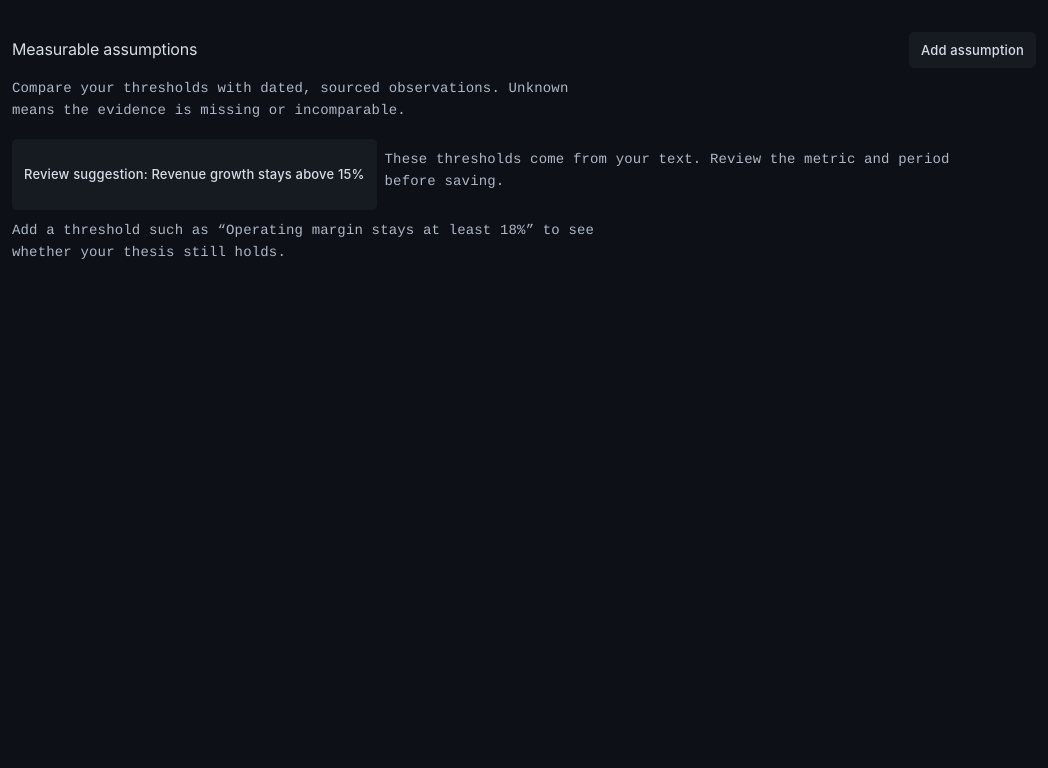
offers explicit thesis thresholds for review without auto-saving them
Click the button "Review suggestion: Revenue growth stays above 15%" at [194, 174], box [12,139,377,210]
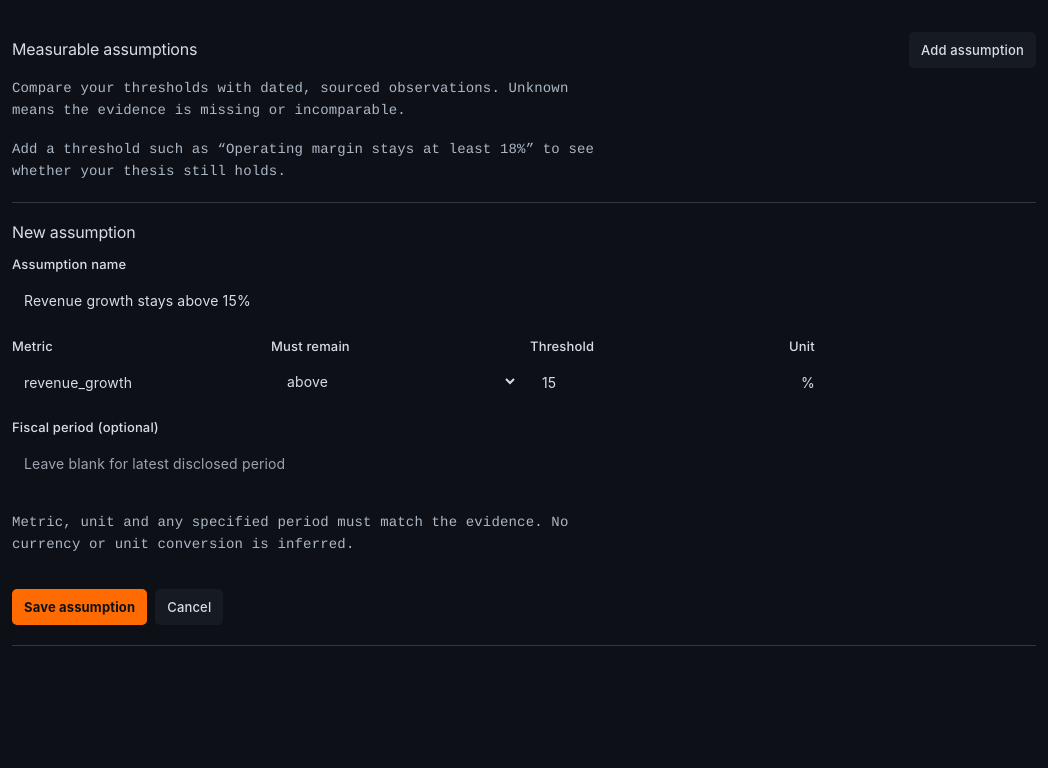
Result: the number field labelled "Threshold" holds "15" at [530,362,777,404]
Result: the field labelled "Metric" holds "revenue_growth" at [12,362,259,404]
